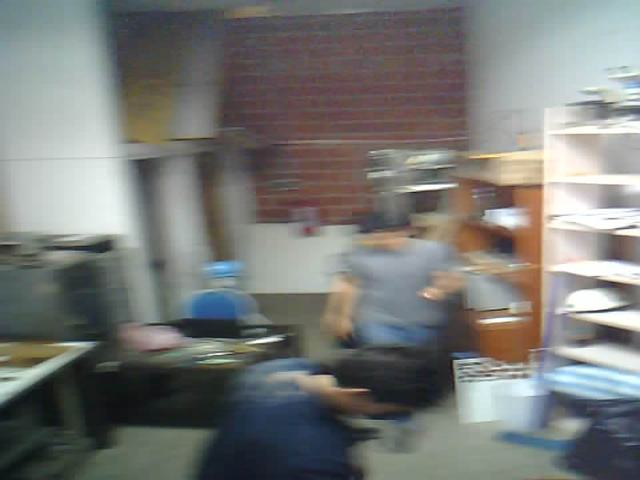person: (192, 311, 460, 480), (318, 154, 482, 377)
